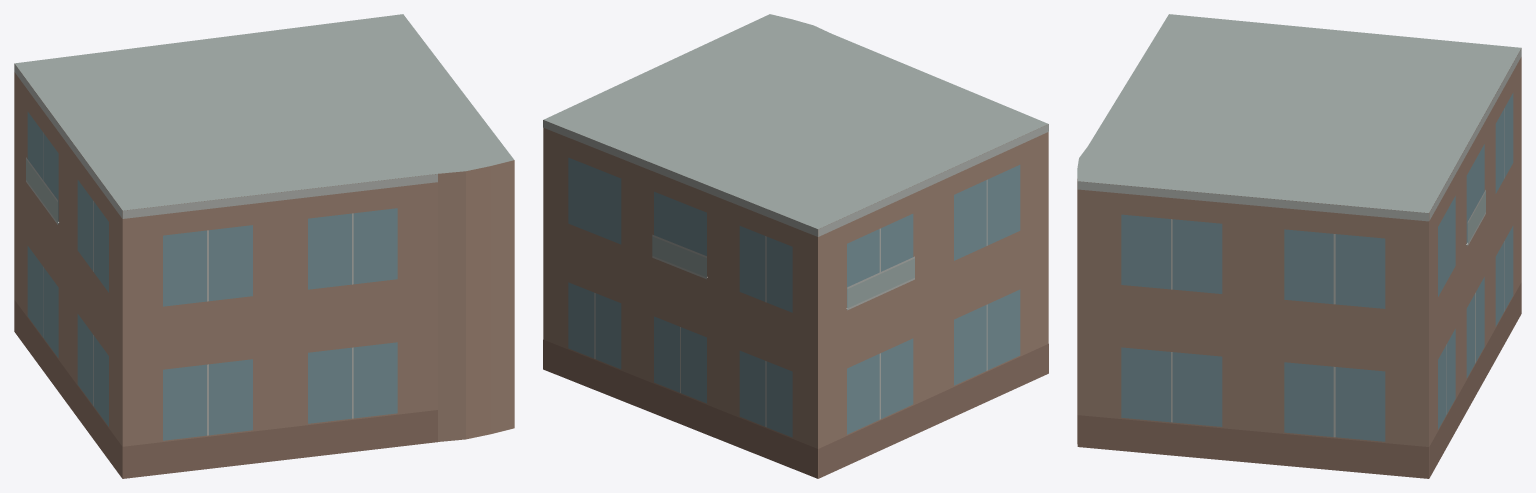
The model's file is survey-upis-32745901.glb.
The picture shows the model from 3 angles, left to right: view 1: azimuth 30°, elevation 25°; view 2: azimuth 150°, elevation 25°; view 3: azimuth 270°, elevation 25°; orthographic projection. The views are drawn at different scales.
Parts seen in each view (by area): view 1: survey-upis-32745901.tmp; view 2: survey-upis-32745901.tmp; view 3: survey-upis-32745901.tmp.
Boxes of the visible parts, x1,y1,x2,y2 form: survey-upis-32745901.tmp: [14, 14, 514, 478]; survey-upis-32745901.tmp: [543, 14, 1048, 478]; survey-upis-32745901.tmp: [1077, 14, 1521, 478].
Size of the model in its own units: 12.55 by 7.8 by 11.83.
